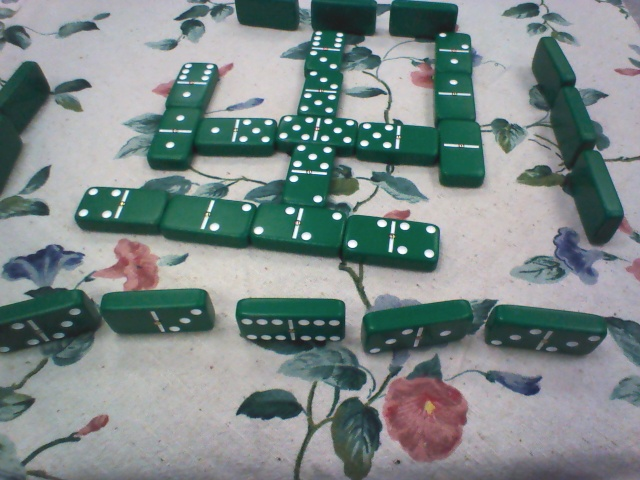B: (342, 214, 441, 271), (161, 192, 254, 249), (249, 199, 344, 254), (358, 115, 439, 170), (81, 182, 160, 234), (278, 143, 339, 210), (195, 111, 281, 158), (433, 120, 492, 183), (415, 70, 484, 122), (275, 109, 360, 151), (164, 59, 217, 114), (426, 31, 484, 80), (149, 106, 194, 166), (295, 63, 344, 118), (300, 25, 349, 68)
C: (1, 59, 54, 129), (1, 111, 24, 201)
D: (564, 145, 632, 257), (542, 85, 598, 167), (518, 34, 581, 103)
E: (227, 284, 349, 352), (484, 295, 605, 363), (361, 294, 471, 366), (1, 297, 106, 362), (104, 285, 213, 340)
F: (390, 1, 462, 42), (311, 1, 380, 38), (228, 1, 305, 33)
